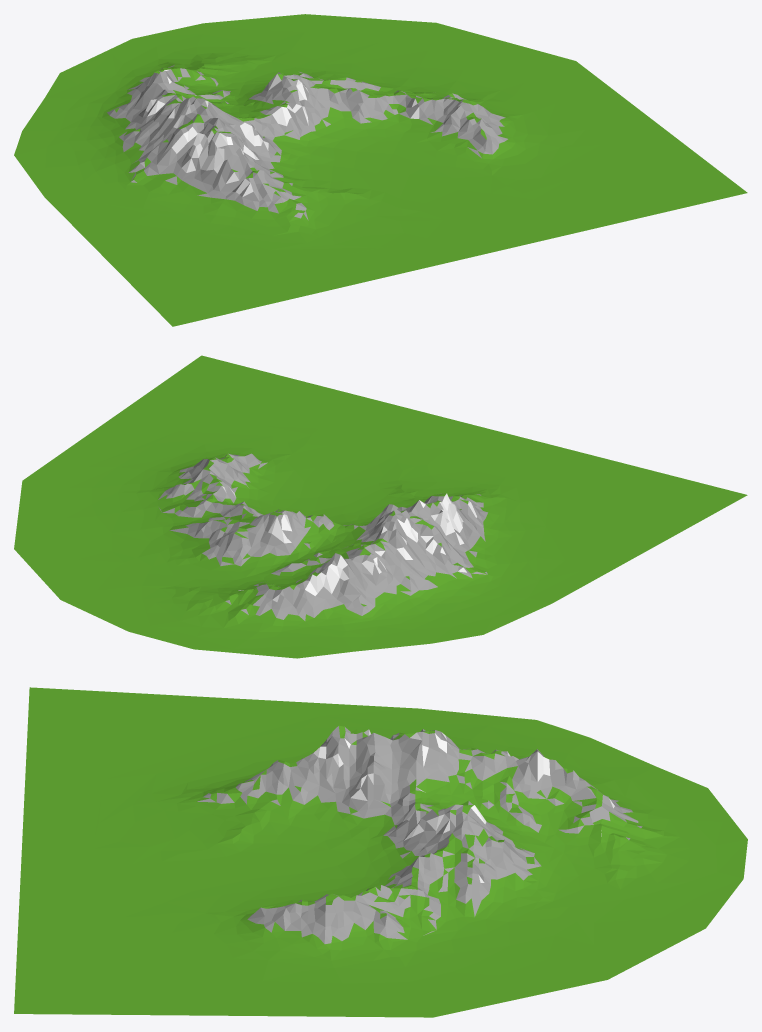
Rendered from env.glb.
3 renders of one model, top to bottom at view 1: azimuth 30°, elevation 25°; view 2: azimuth 150°, elevation 25°; view 3: azimuth 270°, elevation 25°, orthographic. The views are drawn at different scales.
Parts seen in each view (by area): view 1: Plane; view 2: Plane; view 3: Plane.
Boxes of the visible parts, x1=… form: Plane: x1=14, y1=14, x2=747, y2=326; Plane: x1=14, y1=355, x2=747, y2=658; Plane: x1=14, y1=687, x2=747, y2=1017.
Size of the model in its own units: 102 by 9.9 by 95.92.
